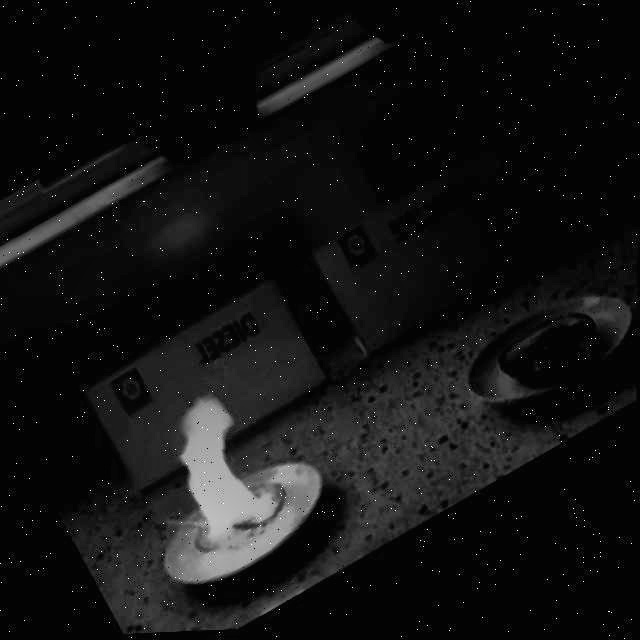Fire: (140, 382, 285, 563)
